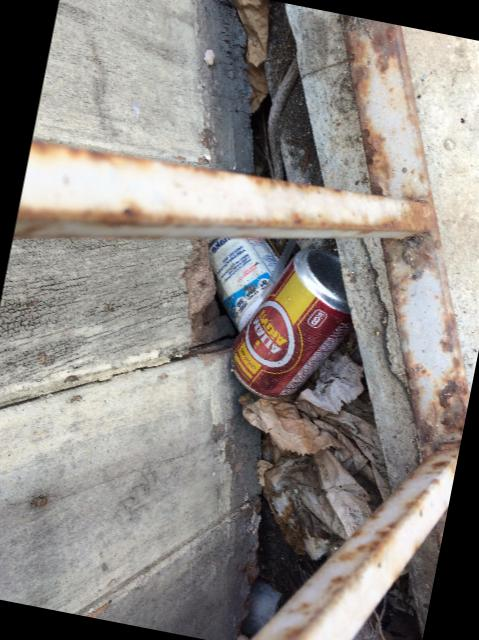metal: (231, 250, 350, 397), (207, 238, 277, 329)
